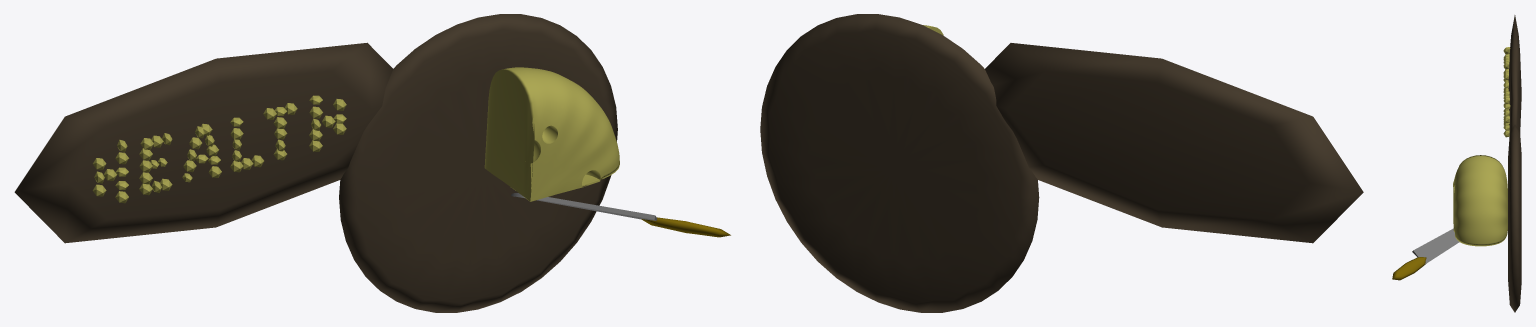
File: 25prcHealth_Bar.fbx
3 views of the same model, side by side, from view 1: azimuth 30°, elevation 25°; view 2: azimuth 150°, elevation 25°; view 3: azimuth 270°, elevation 25° (orthographic). The views are drawn at different scales.
Parts seen in each view (by area): view 1: cheeseboard, pCube3, polySurface2, pCube2, pCube1; view 2: cheeseboard, pCube3; view 3: polySurface2, cheeseboard, pCube3, pCube1, pCube2.
Boxes of the visible parts, x1,y1,x2,y2 form: cheeseboard: (339, 14, 617, 312); pCube3: (14, 42, 392, 243); polySurface2: (484, 67, 619, 201); pCube2: (641, 217, 730, 237); pCube1: (511, 193, 656, 220); cheeseboard: (760, 14, 1039, 312); pCube3: (985, 43, 1363, 243); polySurface2: (1453, 155, 1507, 246); cheeseboard: (1508, 125, 1521, 312); pCube3: (1508, 15, 1521, 133); pCube1: (1412, 228, 1459, 264); pCube2: (1392, 257, 1426, 280).
Size of the model in its own units: 30.35 by 14.91 by 9.5.
